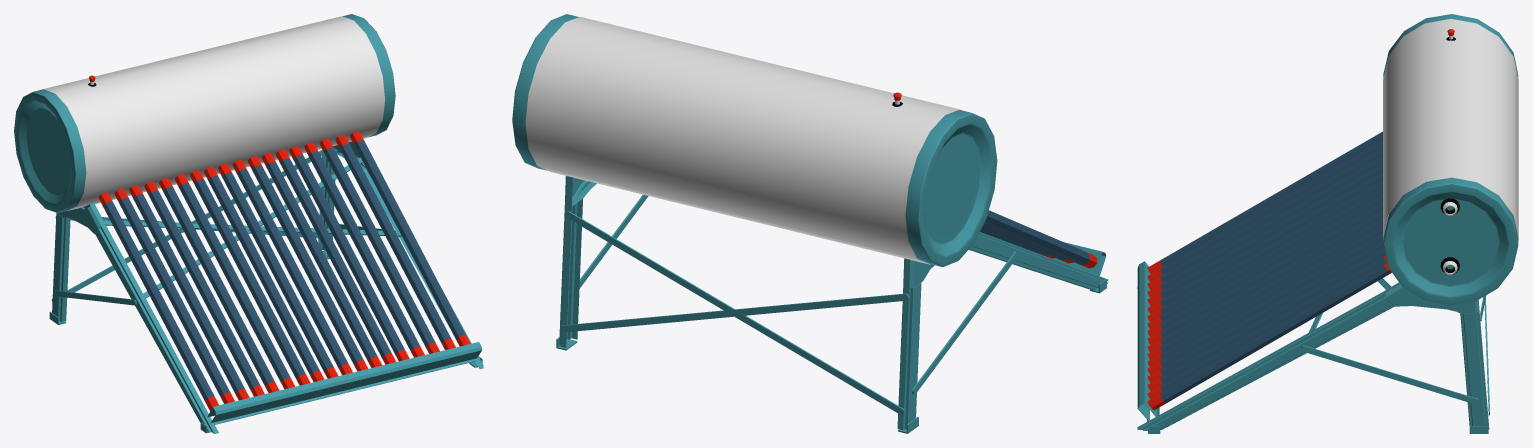
The model's file is solar heater.fbx.
3 renders of one model, left to right at view 1: azimuth 30°, elevation 25°; view 2: azimuth 150°, elevation 25°; view 3: azimuth 270°, elevation 25°, orthographic. The views are drawn at different scales.
Parts seen in each view (by area): view 1: Cylinder, Frame work, Cylinder.007, Plane.001, polySurface15, polySurface16, polySurface18, polySurface22, polySurface23, polySurface20, polySurface31, polySurface25 (+11 smaller); view 2: Cylinder, Cylinder.007, Frame work, Plane.001, Cylinder.002, polySurface15; view 3: Cylinder, Cylinder.002, Frame work, polySurface30, polySurface27, polySurface24, polySurface15, polySurface31, polySurface25, polySurface17, polySurface26, polySurface21 (+10 smaller).
Boxes of the visible parts, left/top/right/bottom form: Cylinder: left=43, top=16, right=384, bottom=210; Frame work: left=51, top=141, right=483, bottom=425; Cylinder.007: left=14, top=89, right=86, bottom=212; Plane.001: left=49, top=203, right=218, bottom=433; polySurface15: left=98, top=192, right=218, bottom=410; polySurface16: left=144, top=181, right=264, bottom=396; polySurface18: left=190, top=170, right=310, bottom=385; polySurface22: left=247, top=156, right=368, bottom=371; polySurface23: left=114, top=188, right=234, bottom=403; polySurface20: left=218, top=163, right=338, bottom=378; polySurface31: left=304, top=142, right=424, bottom=357; polySurface25: left=232, top=160, right=352, bottom=375; Cylinder: left=525, top=17, right=961, bottom=264; Cylinder.007: left=905, top=110, right=997, bottom=267; Frame work: left=556, top=176, right=1106, bottom=414; Plane.001: left=897, top=232, right=1108, bottom=433; Cylinder.002: left=512, top=14, right=578, bottom=170; polySurface15: left=984, top=210, right=1097, bottom=268; Cylinder: left=1383, top=19, right=1518, bottom=239; Cylinder.002: left=1383, top=177, right=1518, bottom=305; Frame work: left=1137, top=261, right=1489, bottom=433; polySurface30: left=1147, top=262, right=1391, bottom=410; polySurface27: left=1147, top=248, right=1385, bottom=390; polySurface24: left=1147, top=163, right=1382, bottom=305; polySurface15: left=1147, top=131, right=1382, bottom=273; polySurface31: left=1147, top=240, right=1383, bottom=382; polySurface25: left=1147, top=197, right=1401, bottom=344; polySurface17: left=1147, top=172, right=1382, bottom=314; polySurface26: left=1147, top=232, right=1382, bottom=374; polySurface21: left=1147, top=148, right=1382, bottom=289.
Size of the model in its own units: 388 by 286 by 365.
